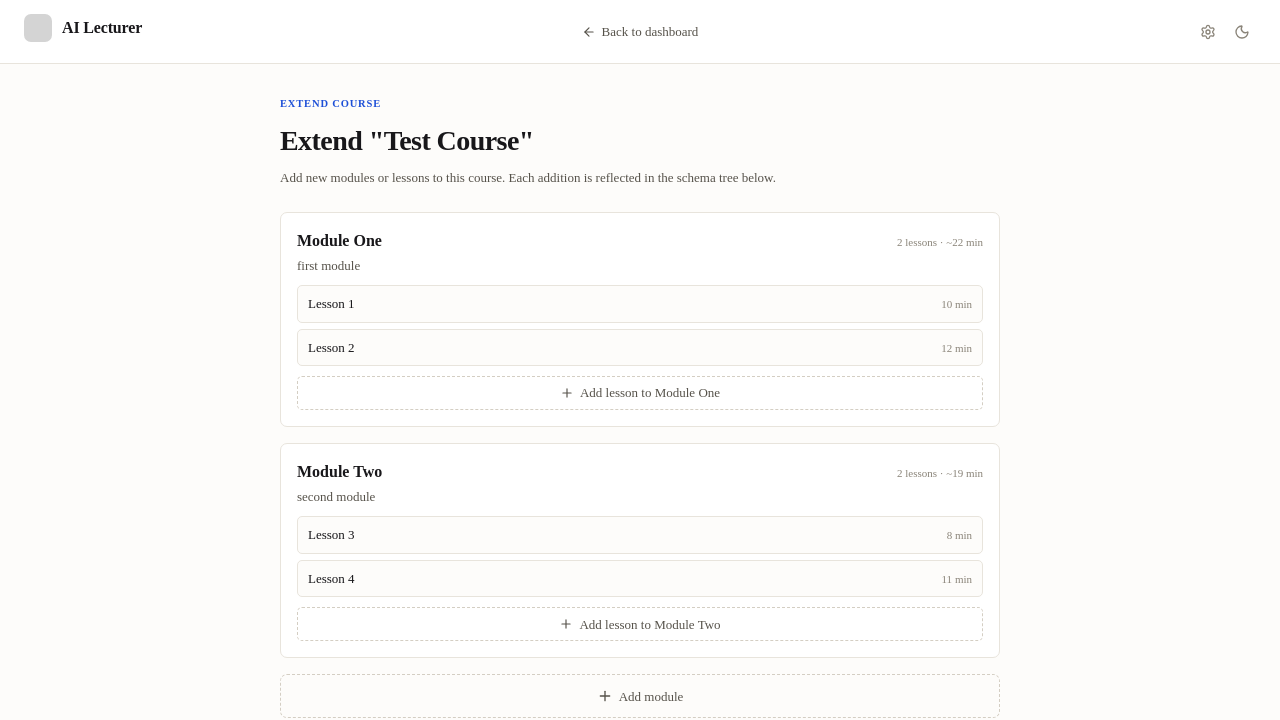
Test: Extend wizard page (US-180 direct-add) › Lesson dialog: shows Lesson title / shared details label and parent context line (US-180)
The image size is (1280, 720).
Click the button with test id "extend-add-lesson-m1" at [640, 393], box [297,376,983,410]
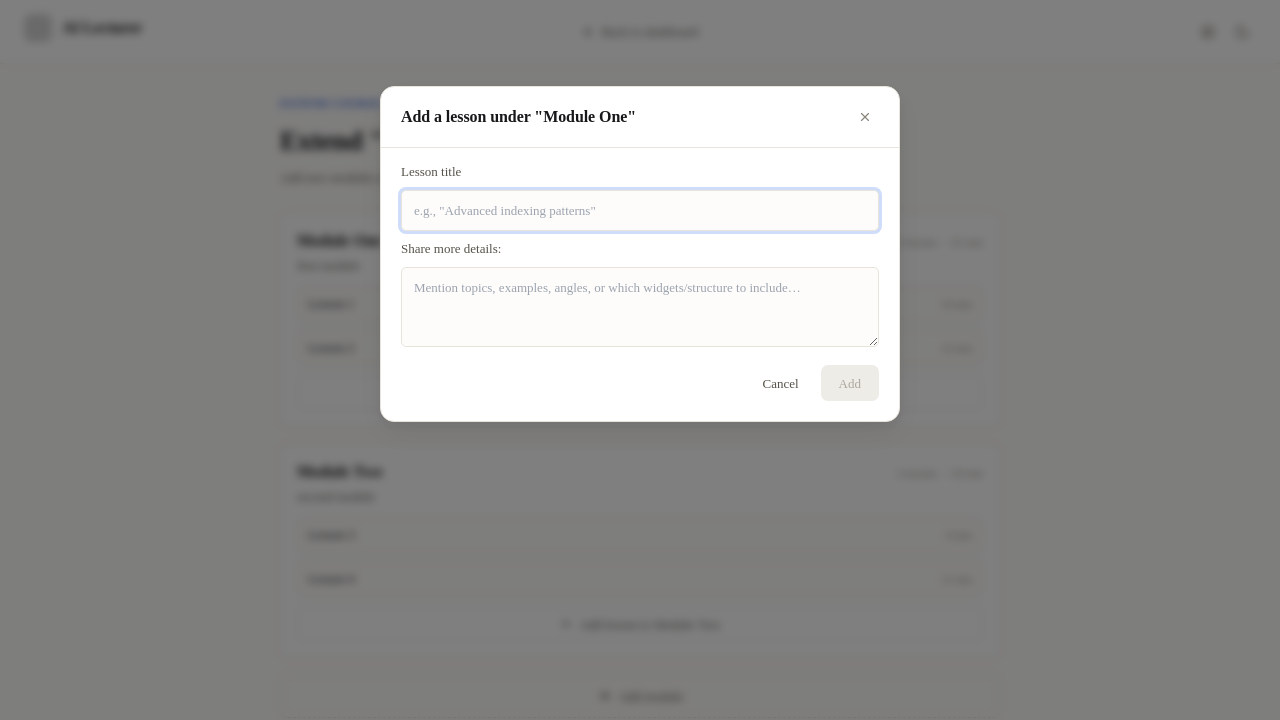
Check: the dialog with test id "extend-dialog" shows "Lesson title", box [401,164,461,179]
Check: the dialog with test id "extend-dialog" shows "Share more details:", box [401,241,501,256]
Check: the dialog with test id "extend-dialog" shows "Add a lesson under \"Module One\"", box [401,108,636,125]
